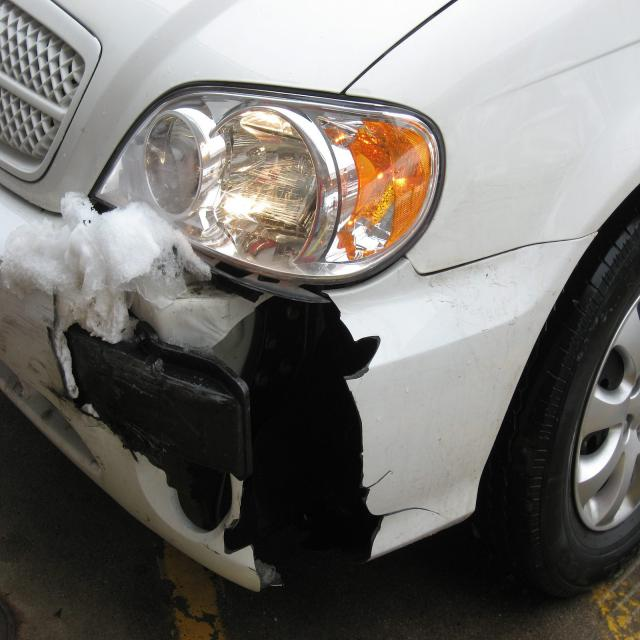scratch: (0, 223, 249, 477), (201, 541, 222, 559), (234, 490, 243, 507)
tear: (72, 279, 446, 589)
